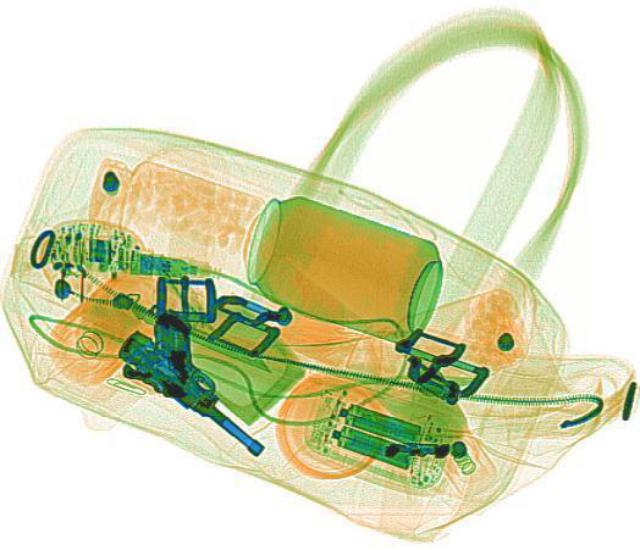Gun: (104, 305, 302, 462)
